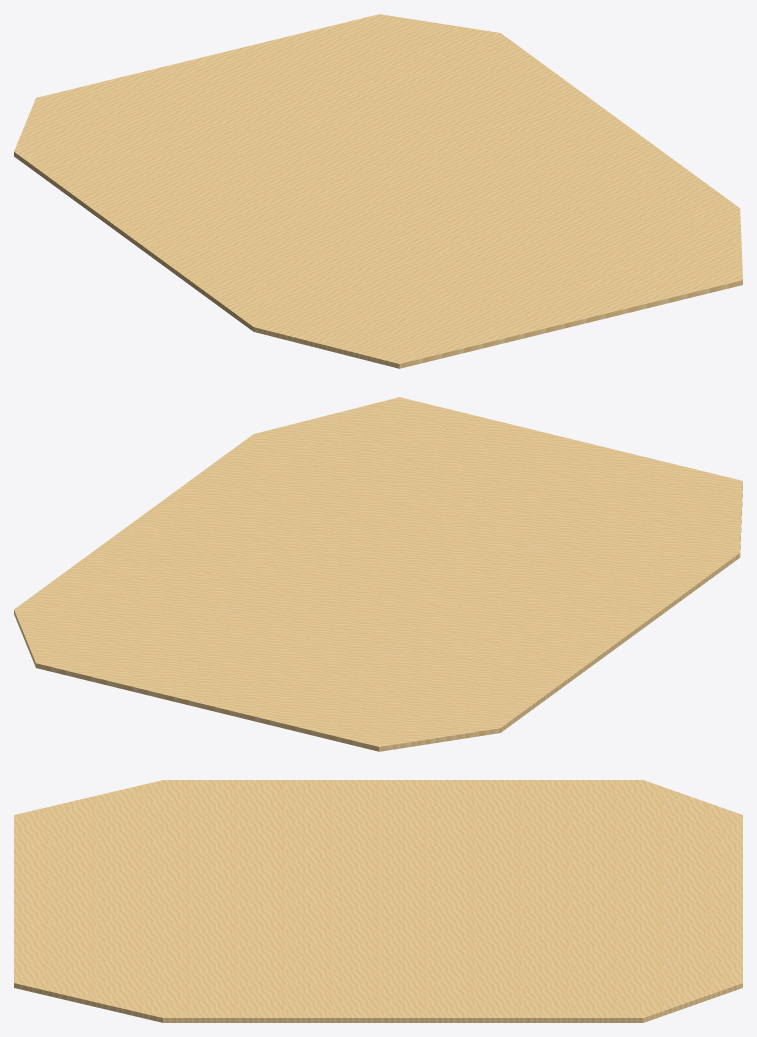
File: seabed-18-j1K3hLqJ.glb
3 renders of one model, top to bottom at view 1: azimuth 30°, elevation 25°; view 2: azimuth 150°, elevation 25°; view 3: azimuth 270°, elevation 25°, orthographic.
Visible parts, largest first — view 1: SW_SandShelf; view 2: SW_SandShelf; view 3: SW_SandShelf.
Part boxes in pixels (box(x1,y1,x2,y2)): SW_SandShelf: box(14, 14, 742, 368); SW_SandShelf: box(14, 397, 742, 751); SW_SandShelf: box(14, 780, 742, 1022).
Size of what is drawn, in the model's own units: 34 by 0.32 by 44.
Materials: 1 (1 with a texture image).
